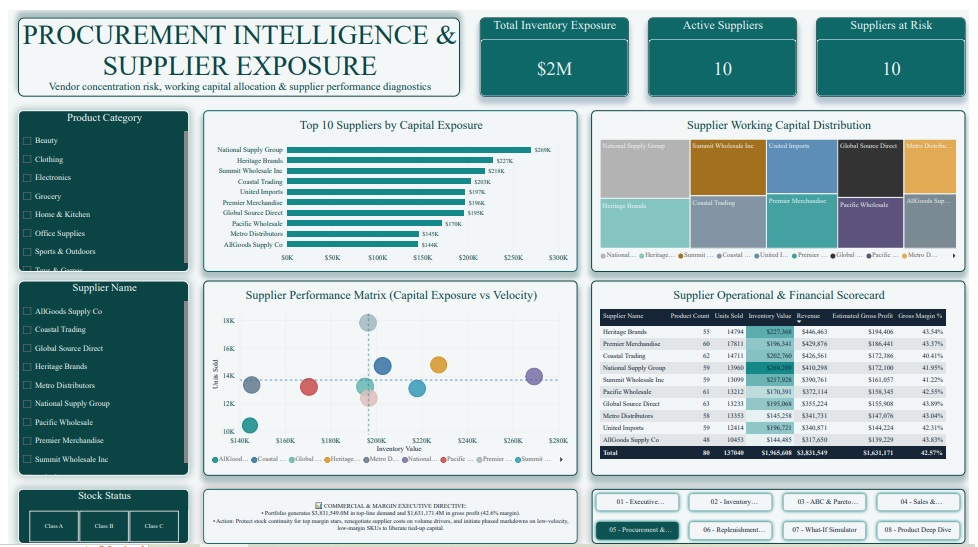

Layout of this report page (visuals, bound fields, positions):
{"tool":"powerbi","page":{"name":"05 - Procurement & Suppliers","canvas":[1920,1080],"ordinal":4},"visuals":[{"type":"cardVisual","title":"Total Inventory Exposure","fields":{"Data":["_Measure.Inventory Value"]},"box":[942.5,15,297.5,157.5],"z":0},{"type":"cardVisual","title":"Suppliers at Risk","fields":{"Data":["_Measure.Suppliers at Risk"]},"box":[1615,15,297.5,157.5],"z":1000},{"type":"textbox","title":"PROCUREMENT INTELLIGENCE & SUPPLIER EXPOSURE","box":[20,15,882.5,157.5],"z":2000},{"type":"slicer","title":"Product Category","fields":{"Values":["DimCategory.Category"]},"box":[20,200,341.7,323.3],"z":3000},{"type":"slicer","title":"Supplier Name","fields":{"Values":["DimSupplier.Supplier Name"]},"box":[20,540,342.2,390],"z":4000},{"type":"slicer","title":"Stock Status","fields":{"Values":["DimProduct.ABC-Class"]},"box":[20,955.6,342.2,110],"z":5000},{"type":"cardVisual","fields":{"Data":["_Measure.Executive Profitability Summary"]},"box":[390,956,748,110],"z":6000},{"type":"clusteredBarChart","title":"Top 10 Suppliers by Capital Exposure","fields":{"Category":["DimSupplier.Supplier Name"],"Y":["_Measure.Inventory Value"]},"box":[390,200,748,323],"z":7000},{"type":"cardVisual","title":"Active Suppliers","fields":{"Data":["_Measure.Supplier Count"]},"box":[1278.8,15,297.5,157.5],"z":8000},{"type":"scatterChart","title":"Supplier Performance Matrix (Capital Exposure vs Velocity)","fields":{"Category":["DimSupplier.Supplier Name"],"Series":["DimSupplier.Supplier Name"],"Size":["_Measure.Supplier Product Count"],"X":["_Measure.Inventory Value"],"Y":["Sum(FactInventory.Units Sold)"]},"box":[390,540,748,390],"z":9000},{"type":"tableEx","title":"Supplier Operational & Financial Scorecard","fields":{"Values":["DimSupplier.Supplier Name","_Measure.Supplier Product Count","Sum(FactInventory.Units Sold)","_Measure.Inventory Value","_Measure.Estimated Sales","_Measure.Estimated Gross Profit","_Measure.Estimated Gross Margin %"]},"box":[1165,540,748,390],"z":10000},{"type":"treemap","title":"Supplier Working Capital Distribution","fields":{"Group":["DimSupplier.Supplier Name"],"Values":["_Measure.Inventory Value"]},"box":[1165,200,747.5,322.5],"z":11000},{"type":"pageNavigator","box":[1166,956,747,110],"z":12000}]}

Visuals, with their boxes in screenshot pixels (x1, y1, x2, y2), scaled from the page's 1920x1080 canvas onto the 978x547 screenshot:
"Total Inventory Exposure" cardVisual: x1=480 y1=8 x2=632 y2=87
"Suppliers at Risk" cardVisual: x1=823 y1=8 x2=974 y2=87
"PROCUREMENT INTELLIGENCE & SUPPLIER EXPOSURE" textbox: x1=10 y1=8 x2=460 y2=87
"Product Category" slicer: x1=10 y1=101 x2=184 y2=265
"Supplier Name" slicer: x1=10 y1=274 x2=184 y2=471
"Stock Status" slicer: x1=10 y1=484 x2=184 y2=540
cardVisual - _Measure.Executive Profitability Summary: x1=199 y1=484 x2=580 y2=540
"Top 10 Suppliers by Capital Exposure" clusteredBarChart: x1=199 y1=101 x2=580 y2=265
"Active Suppliers" cardVisual: x1=651 y1=8 x2=803 y2=87
"Supplier Performance Matrix (Capital Exposure vs Velocity)" scatterChart: x1=199 y1=274 x2=580 y2=471
"Supplier Operational & Financial Scorecard" tableEx: x1=593 y1=274 x2=974 y2=471
"Supplier Working Capital Distribution" treemap: x1=593 y1=101 x2=974 y2=265
pageNavigator: x1=594 y1=484 x2=974 y2=540
